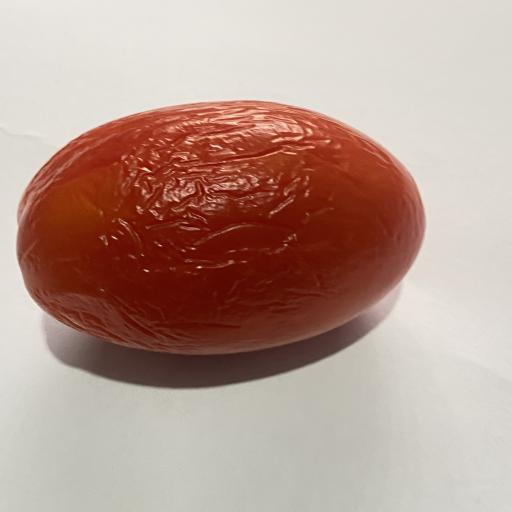spoiled: (17, 101, 425, 354)
